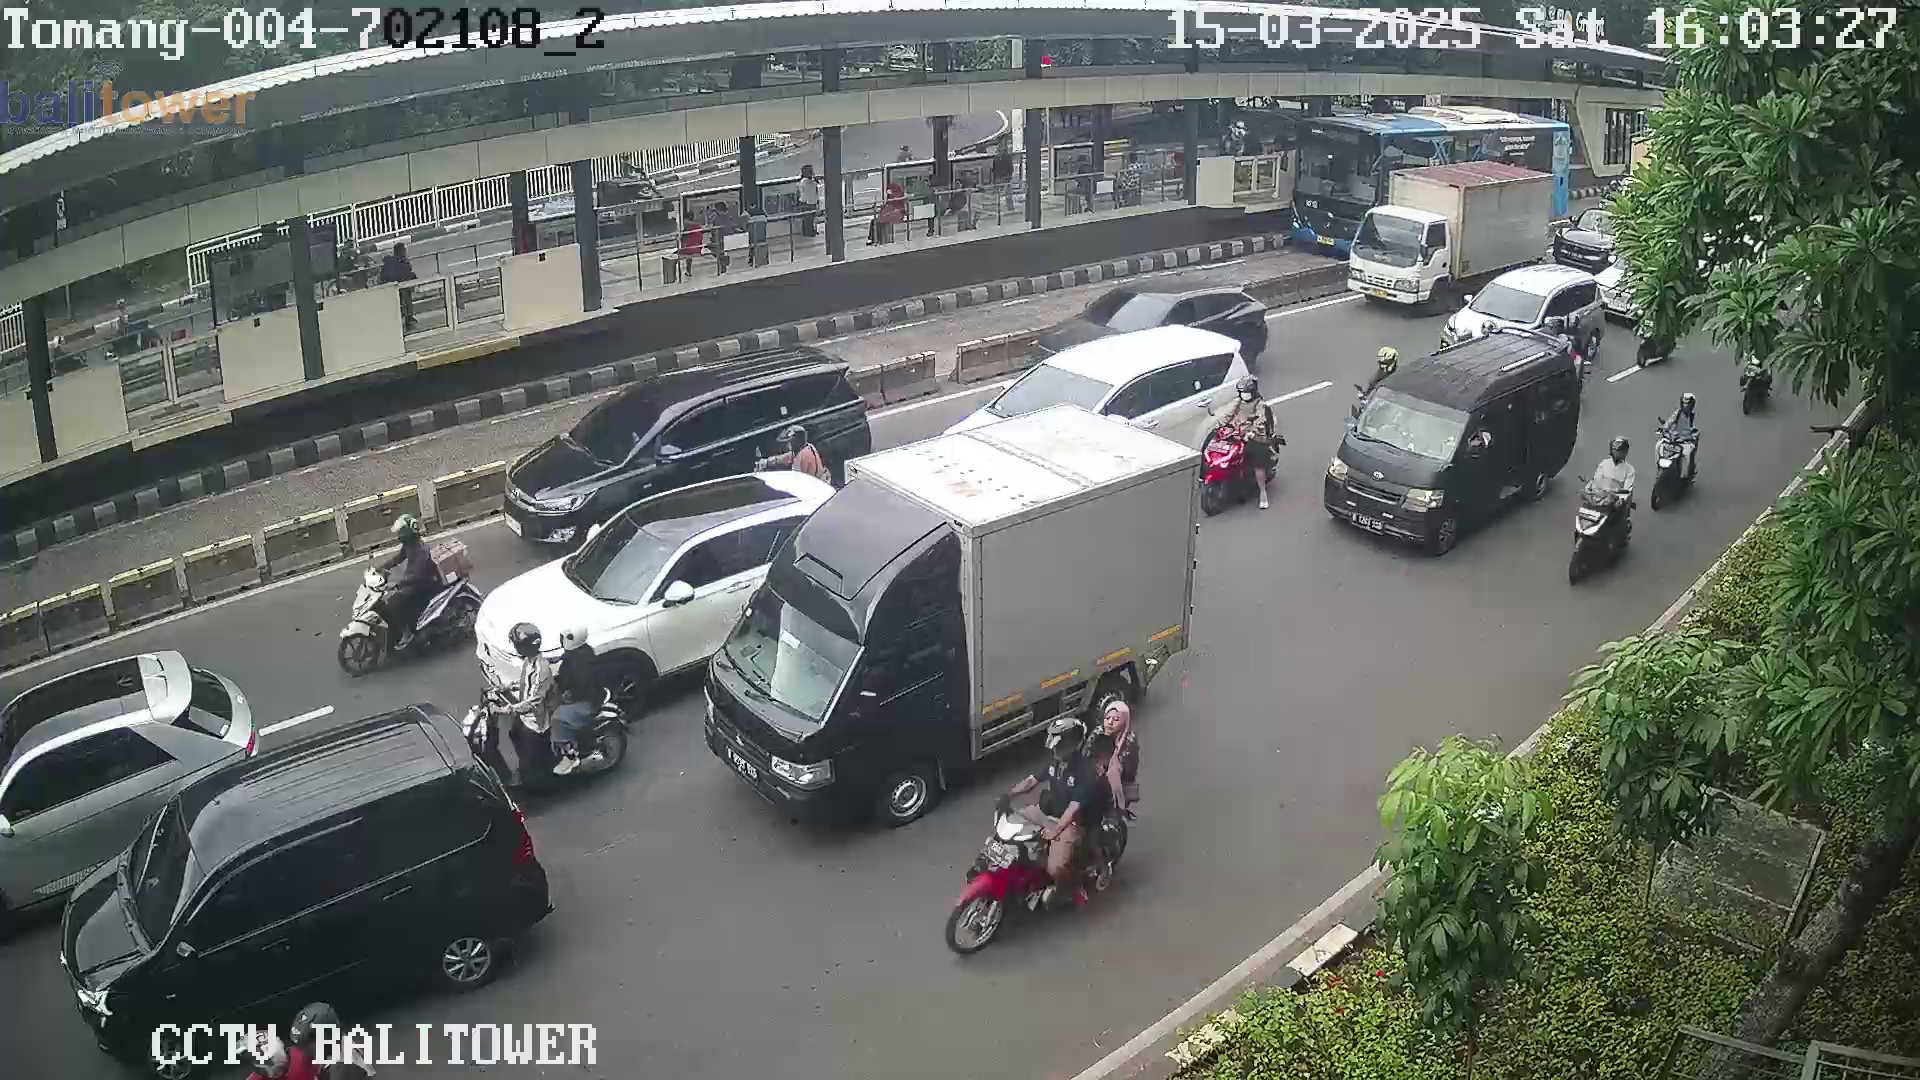half-face helmet: (1039, 716, 1092, 773), (1233, 371, 1280, 414), (508, 624, 549, 669), (774, 416, 827, 449), (555, 620, 598, 661), (386, 508, 423, 551), (1670, 388, 1712, 422), (1608, 433, 1635, 475)
no helmet: (1094, 700, 1145, 743), (1084, 737, 1115, 773)
